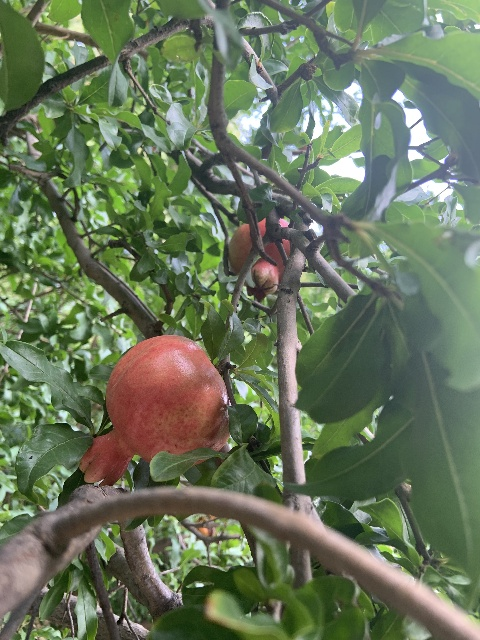ripe: (79, 335, 228, 487), (228, 217, 289, 302)
